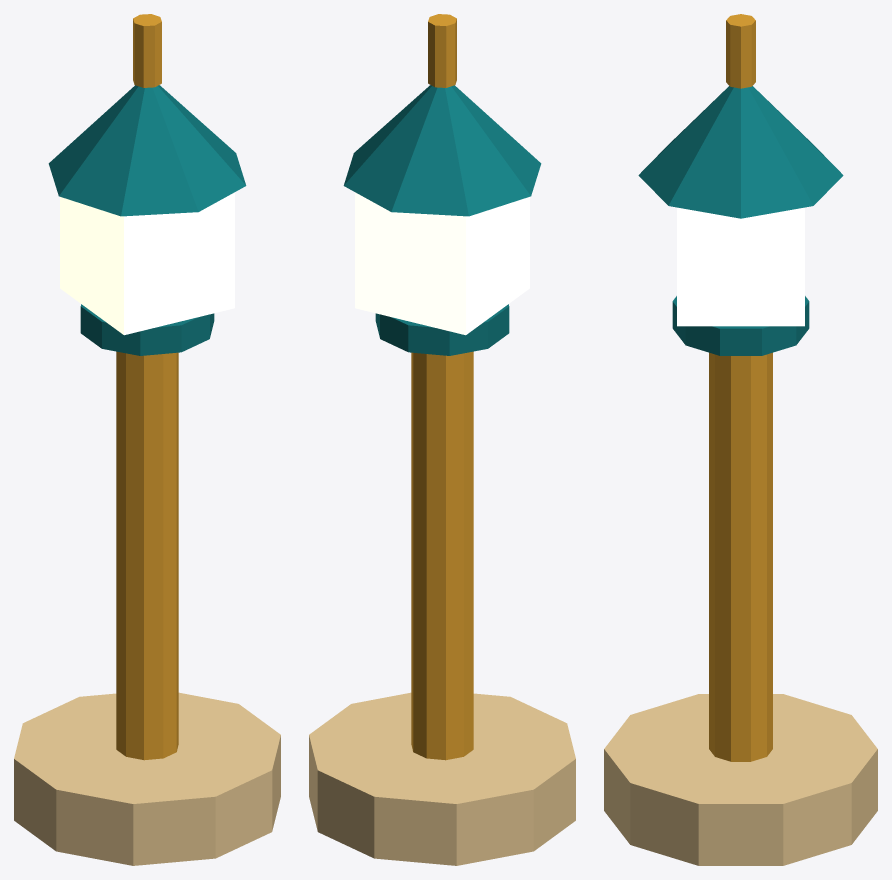
Rendered from tide_beacon.glb.
3 renders of one model, left to right at view 1: azimuth 30°, elevation 25°; view 2: azimuth 150°, elevation 25°; view 3: azimuth 270°, elevation 25°, orthographic.
Parts seen in each view (by area): view 1: BeaconBase, BeaconPost, BeaconLantern, BeaconRoof, BeaconCollar, BeaconFinial; view 2: BeaconBase, BeaconPost, BeaconLantern, BeaconRoof, BeaconCollar, BeaconFinial; view 3: BeaconBase, BeaconPost, BeaconRoof, BeaconLantern, BeaconCollar, BeaconFinial.
Boxes of the visible parts, x1,y1,x2,y2 form: BeaconBase: [14, 692, 280, 865]; BeaconPost: [116, 351, 178, 760]; BeaconLantern: [60, 192, 234, 335]; BeaconRoof: [48, 85, 246, 216]; BeaconCollar: [80, 304, 214, 355]; BeaconFinial: [133, 14, 161, 87]; BeaconBase: [309, 692, 575, 865]; BeaconPost: [411, 351, 473, 760]; BeaconLantern: [355, 192, 529, 335]; BeaconRoof: [343, 85, 541, 216]; BeaconCollar: [375, 304, 509, 355]; BeaconFinial: [428, 14, 456, 87]; BeaconBase: [604, 694, 877, 865]; BeaconPost: [709, 352, 772, 761]; BeaconRoof: [638, 86, 843, 218]; BeaconLantern: [677, 207, 804, 326]; BeaconCollar: [672, 296, 809, 355]; BeaconFinial: [726, 14, 755, 88].
Size of the model in its own units: 0.6087 by 2.04 by 0.64.
